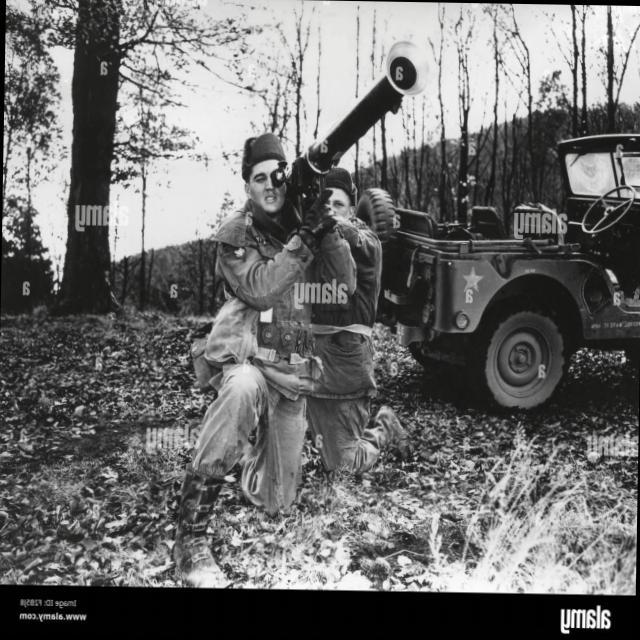rocket: (296, 32, 418, 188)
